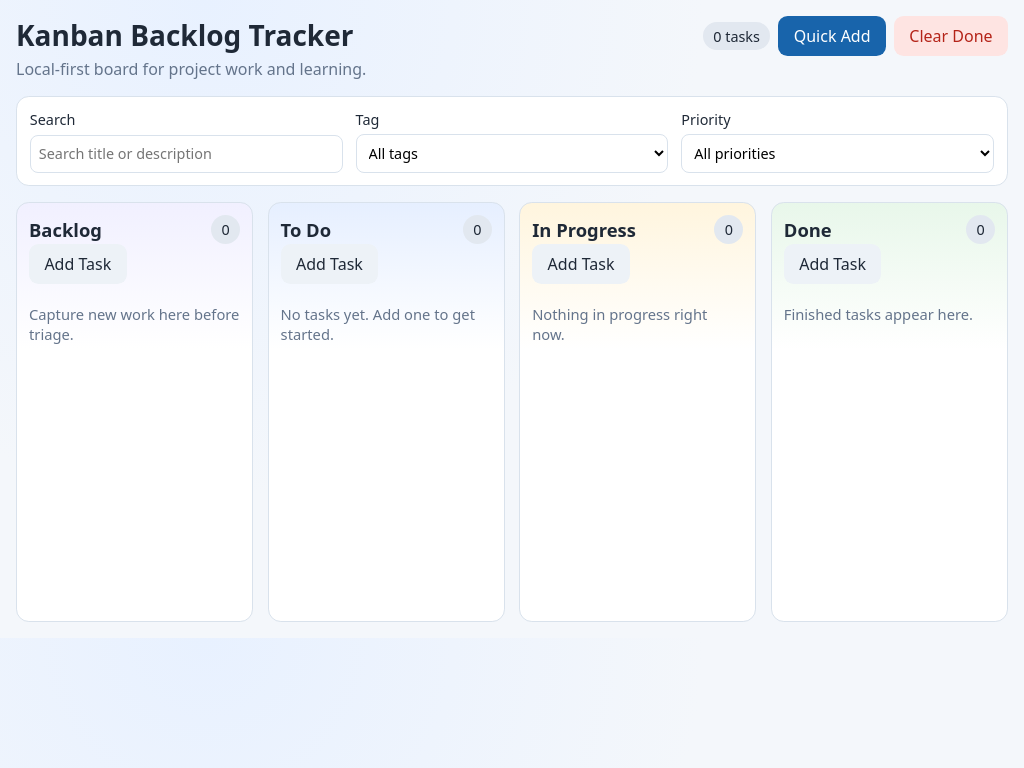
Test: App triage gating › supports edit and delete actions from card buttons
Click the button "Quick Add". click: (832, 36)
box: [778,16,886,56]
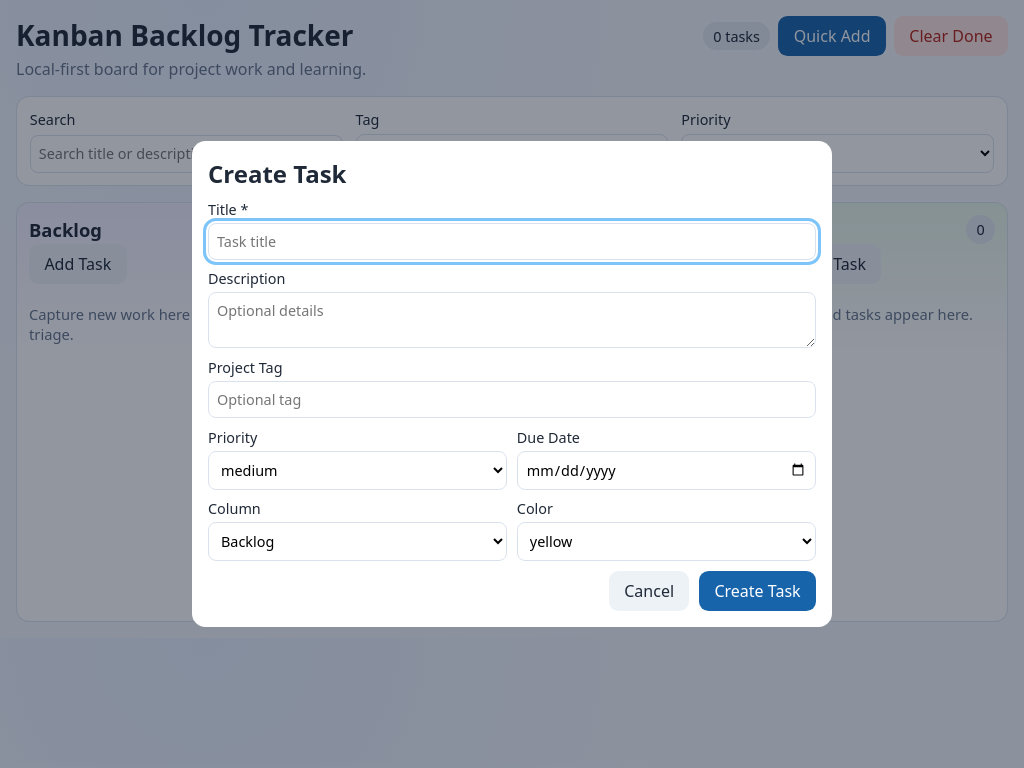
Type "Clickable card" into the field labelled "Title *". click: (512, 241)
box: [208,223,816,260]
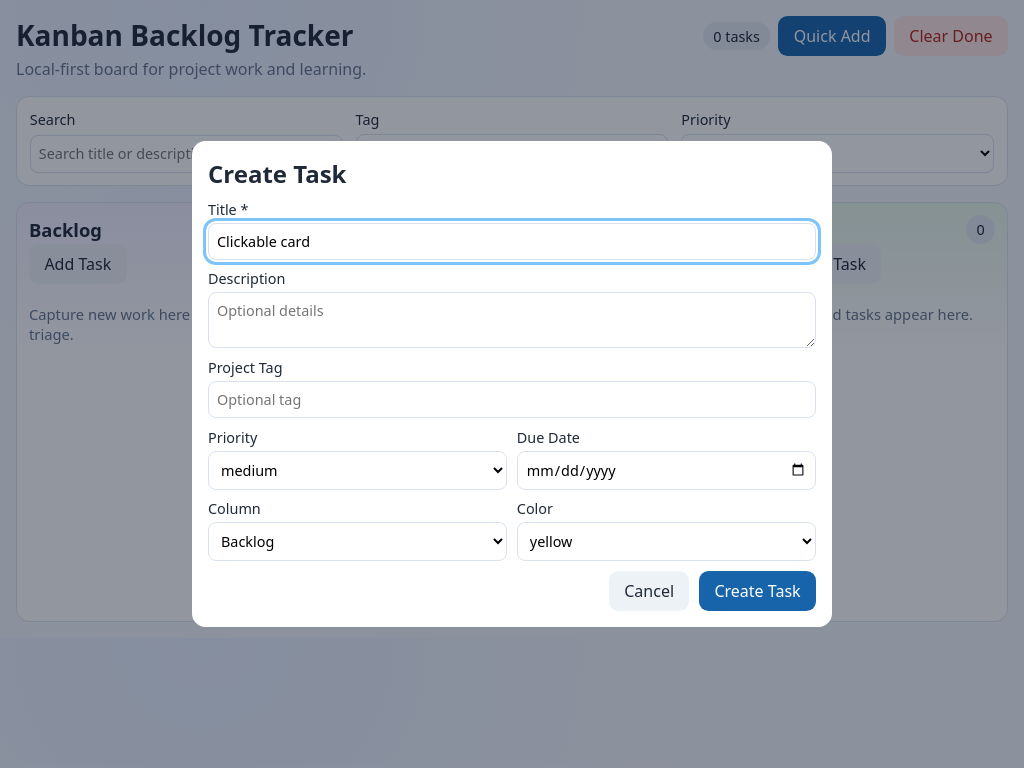
Click the button "Create Task". click: (758, 591)
box: [699,571,816,611]
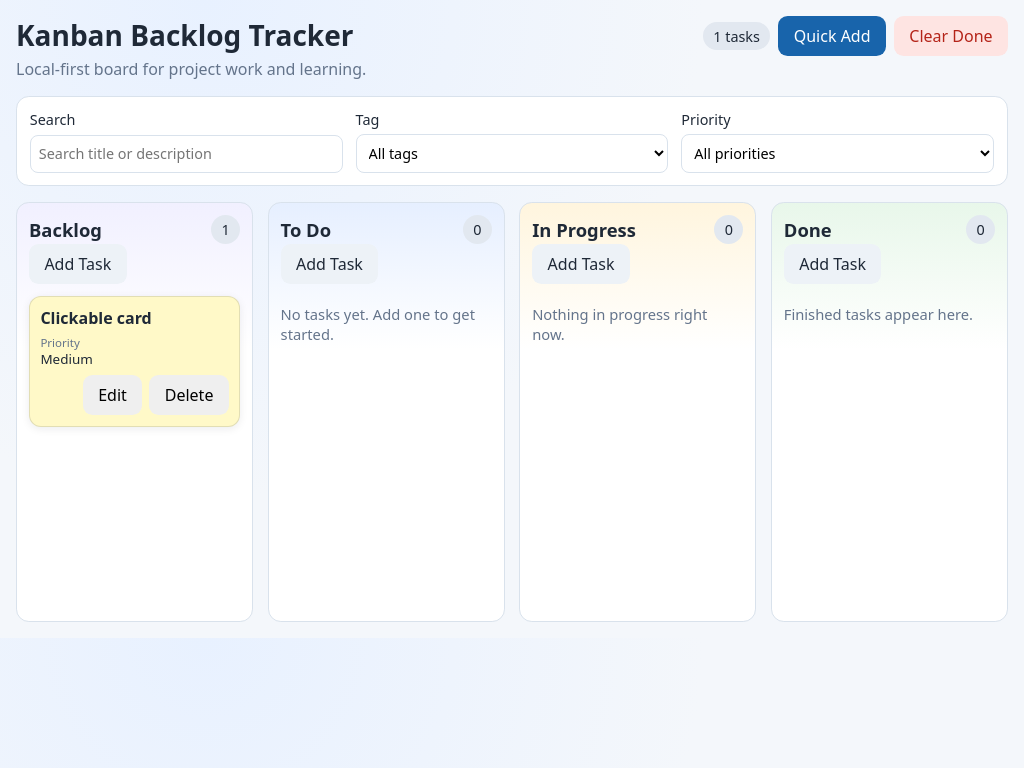
expect the heading "Clickable card" is shown: met, box [40,307,152,329]
Click the button "Edit". click: (112, 395)
box: [83,375,142,415]
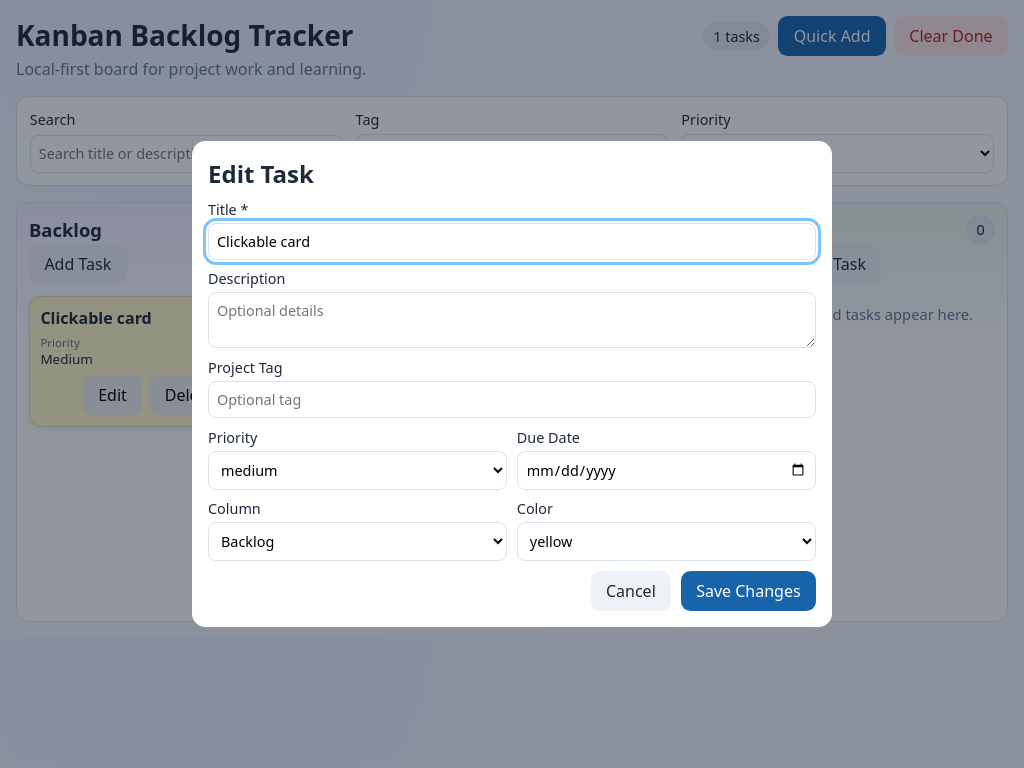
expect the dialog is shown: met, box [192,141,832,627]
expect the field showing "Clickable card" is shown: met, box [208,223,816,260]
Click the button "Cancel". click: (631, 591)
box: [591,571,671,611]
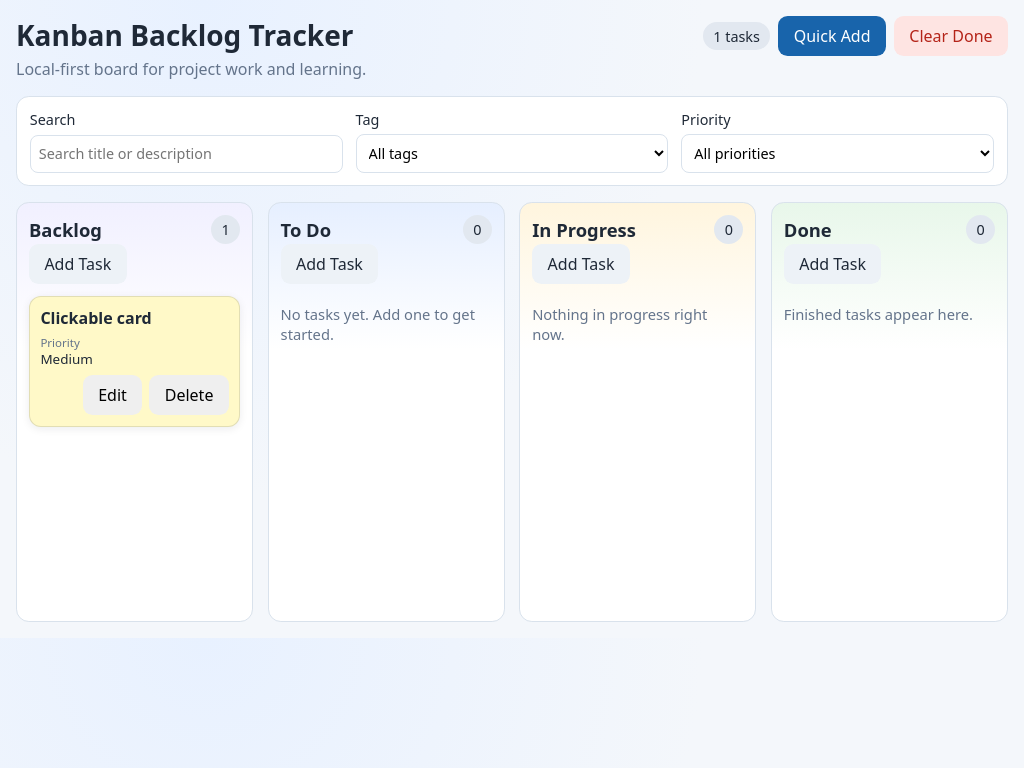
Click the button "Delete". click: (189, 395)
box: [149,375,229,415]
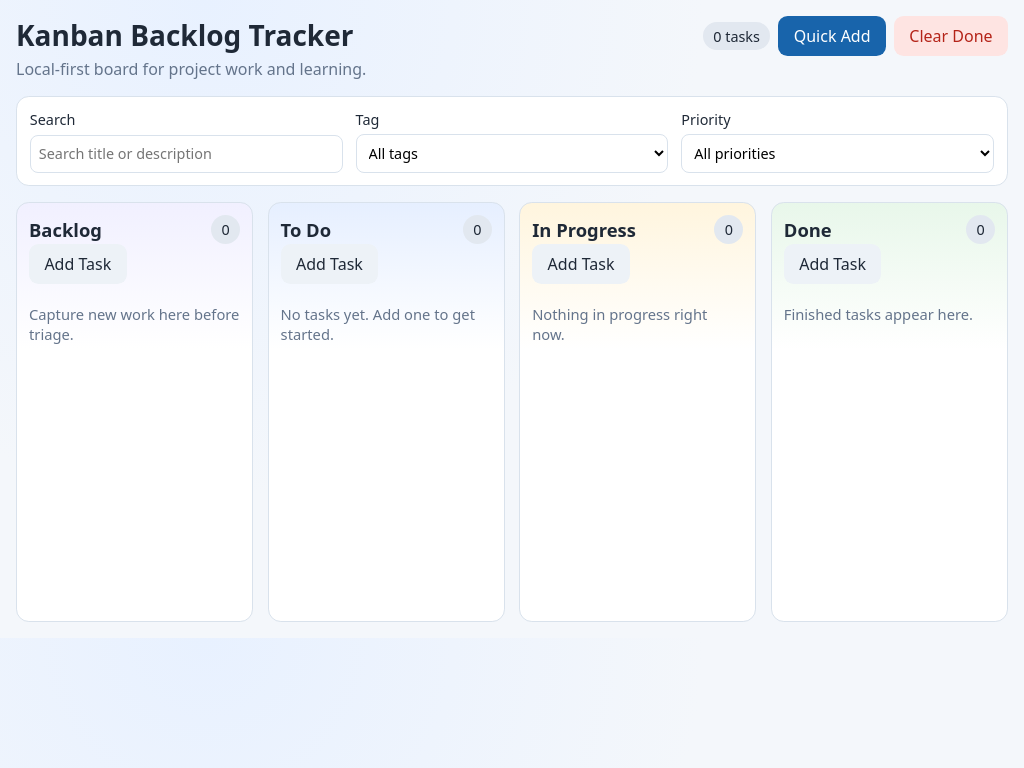
expect the button "Clickable card" is gone: met
